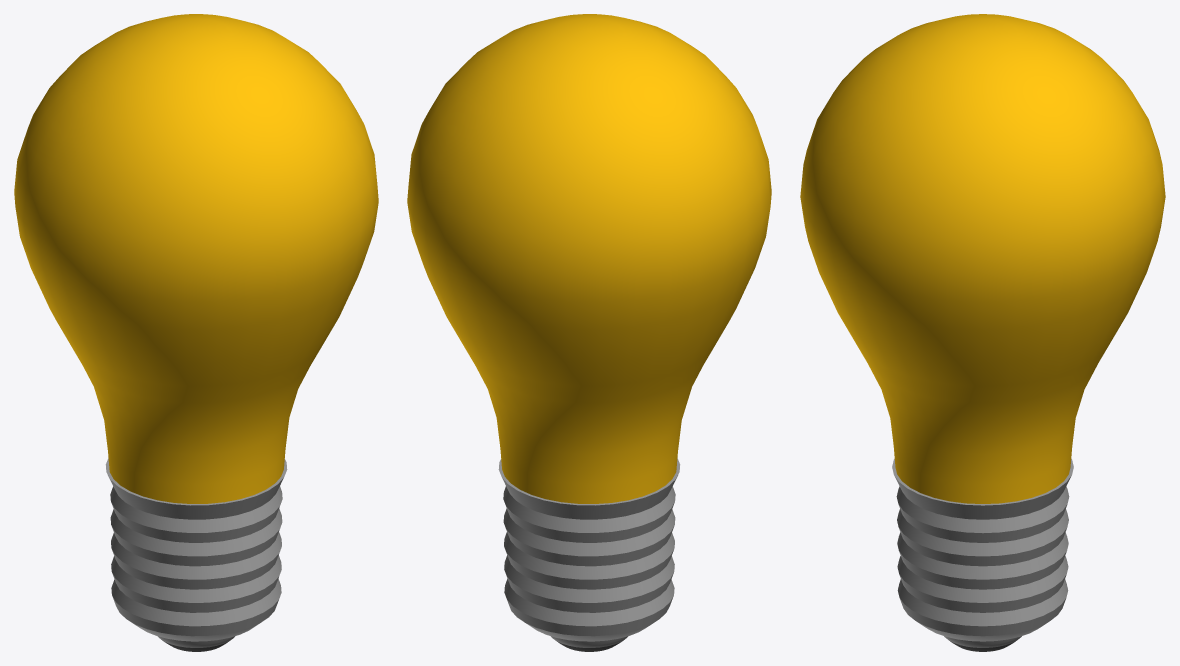
File: light_bulb.glb
The picture shows the model from 3 angles, left to right: view 1: azimuth 30°, elevation 25°; view 2: azimuth 150°, elevation 25°; view 3: azimuth 270°, elevation 25°; orthographic projection.
Visible parts, largest first — view 1: Sphere.530; view 2: Sphere.530; view 3: Sphere.530.
Part boxes in pixels (bbox=[...]): Sphere.530: bbox=[14, 14, 378, 651]; Sphere.530: bbox=[407, 14, 771, 651]; Sphere.530: bbox=[800, 14, 1165, 651].
Bounding box in the file's own units: 1.22 × 2.28 × 1.22.
Materials: 1 (1 with a texture image).
